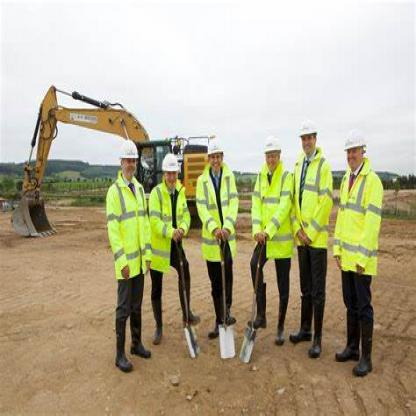person: (333, 111, 388, 379), (247, 125, 298, 356), (101, 129, 146, 369), (148, 139, 198, 349), (294, 107, 328, 363), (197, 125, 237, 336)
